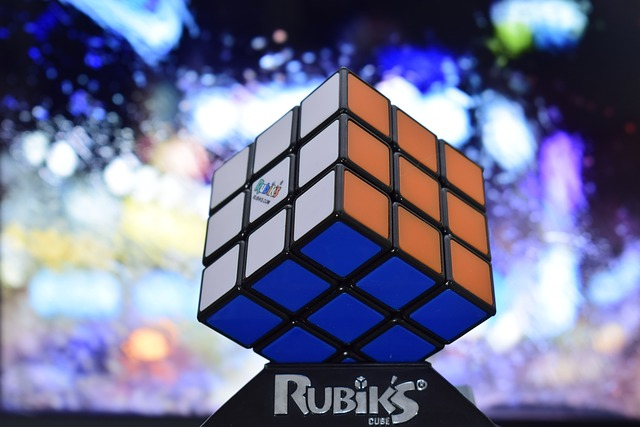cube: (196, 67, 496, 378)
